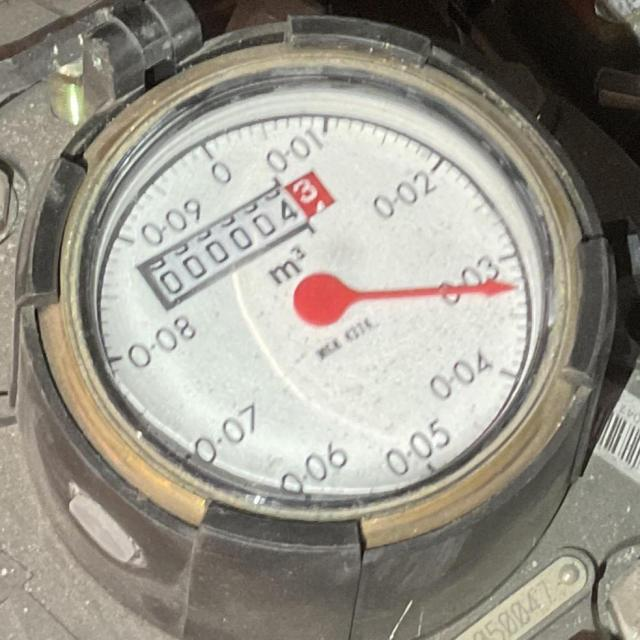gaz_meter: (78, 72, 557, 510)
indication: (133, 163, 340, 319)
